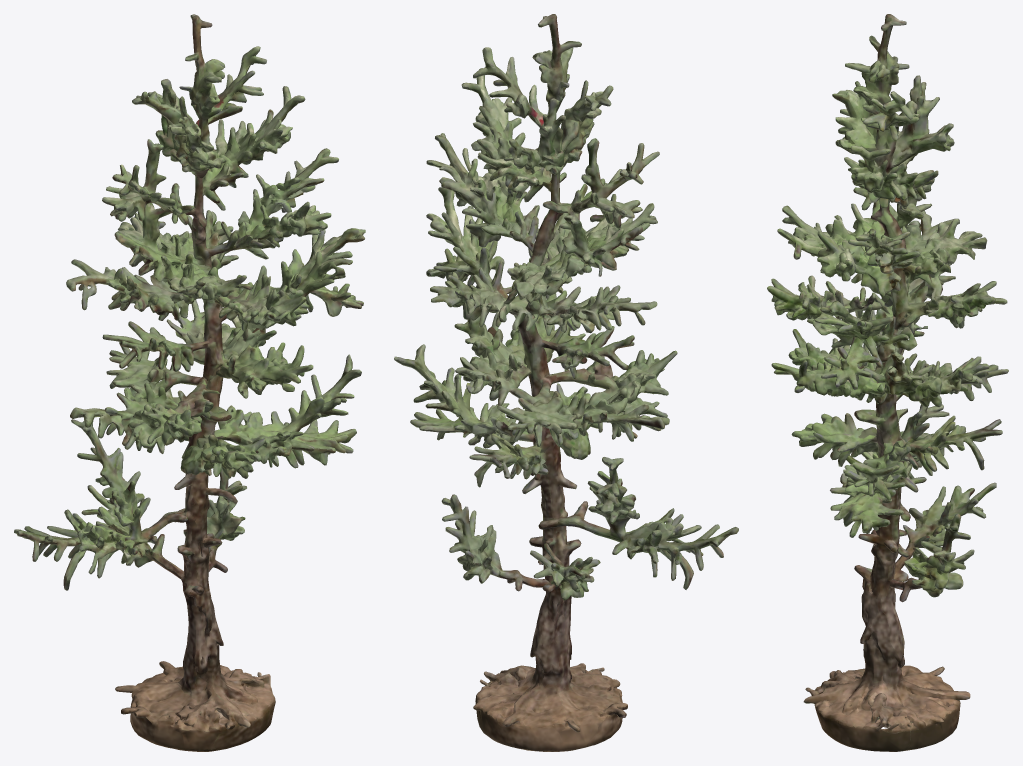
File: conifer-sapling-v13.glb
3 renders of one model, left to right at view 1: azimuth 30°, elevation 25°; view 2: azimuth 150°, elevation 25°; view 3: azimuth 270°, elevation 25°, orthographic.
Parts seen in each view (by area): view 1: geometry_0; view 2: geometry_0; view 3: geometry_0.
Part boxes in pixels (x1,y1,x2,y2): geometry_0: [14, 14, 365, 751]; geometry_0: [394, 14, 738, 751]; geometry_0: [767, 14, 1008, 751].
Bounding box in the file's own units: 0.2995 × 0.5997 × 0.1859.
1 material, 1 textured.
